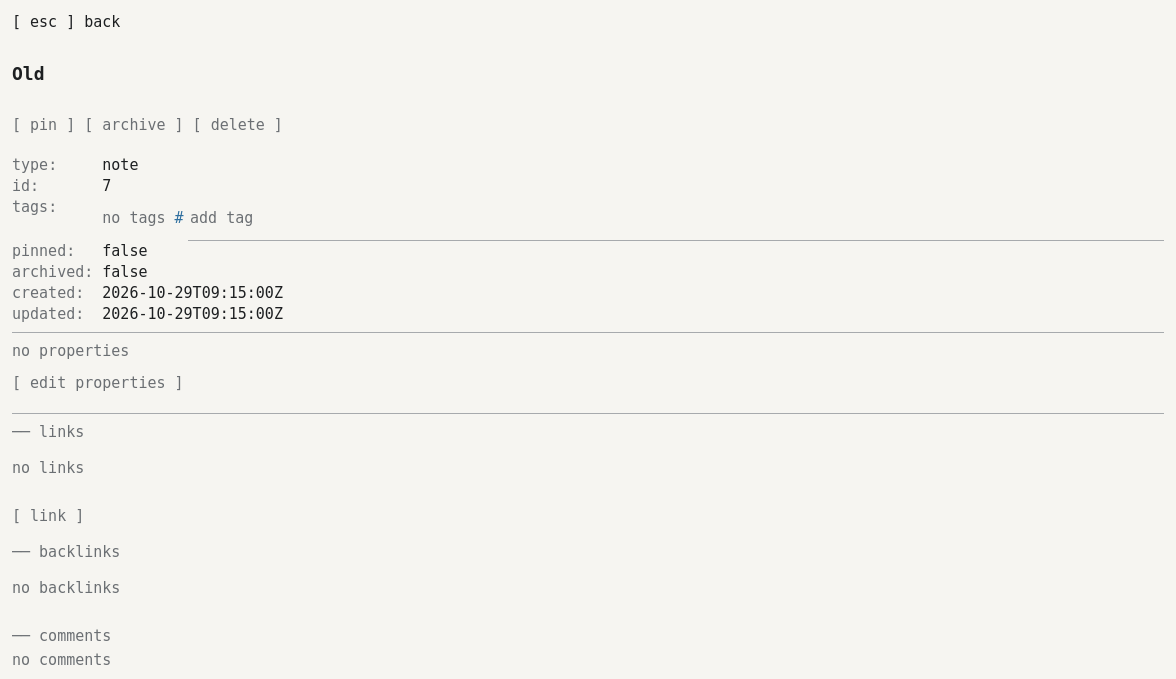
Test case: title › Esc cancels without a request and stays on the page
Click the button "Old". click: [28, 74]
box: [12, 52, 44, 96]
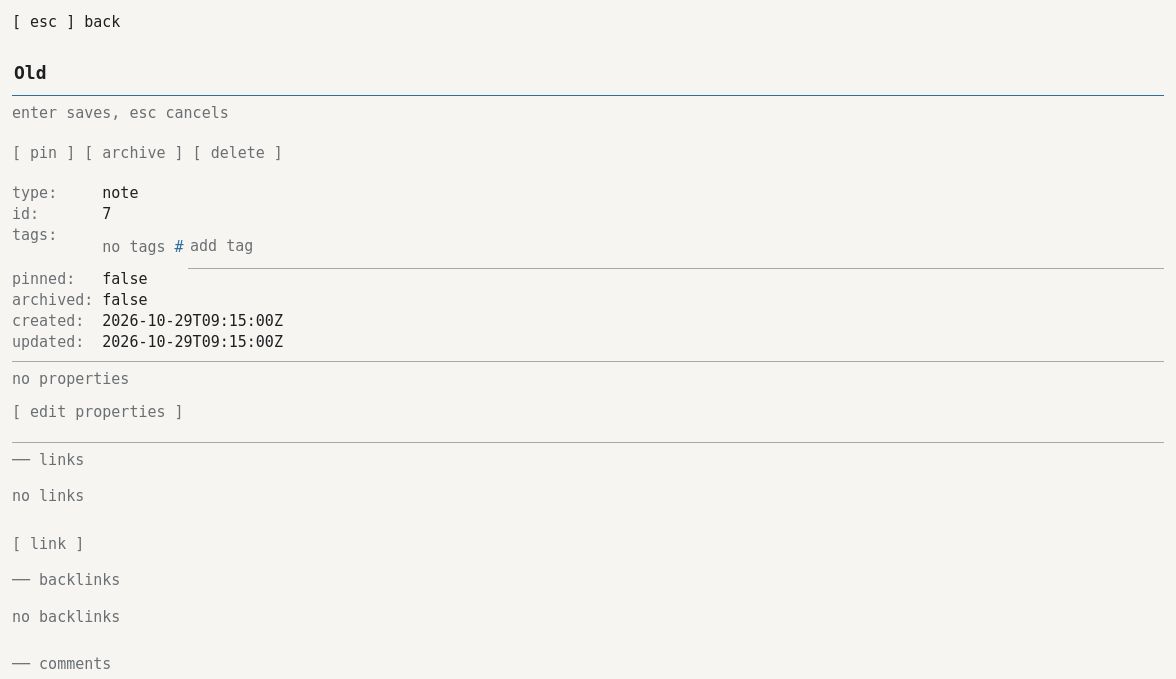
Replace the text in the field named "title" with "New". click: [588, 74]
box: [12, 52, 1164, 96]
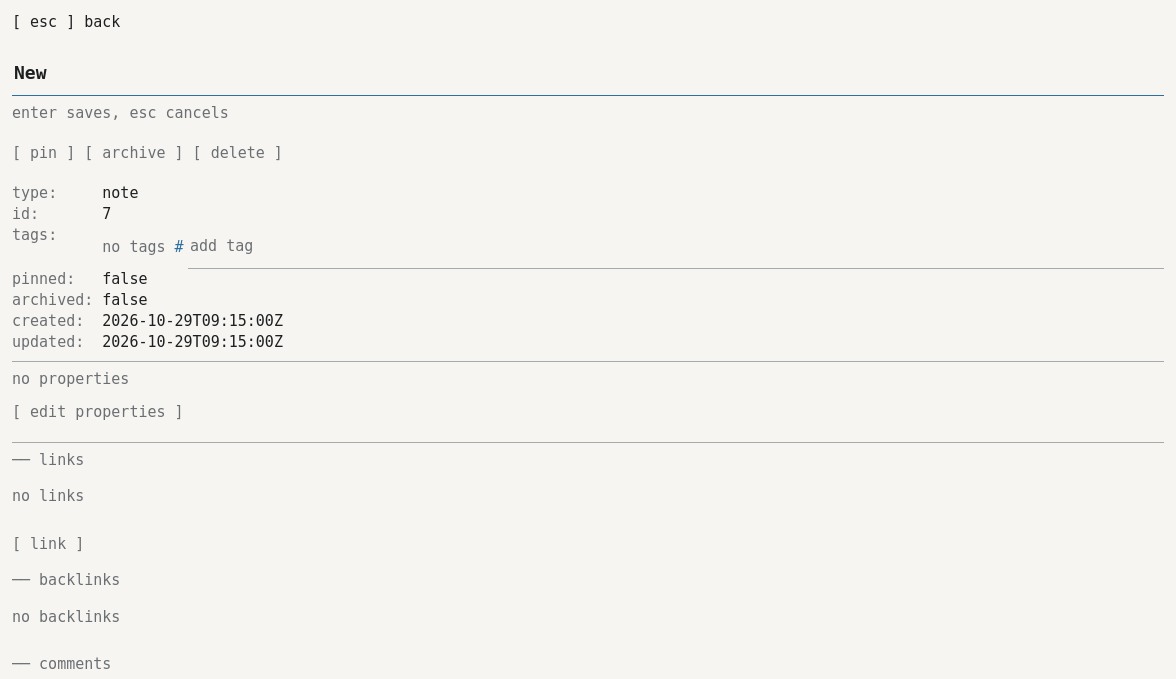
Press Escape in the field named "title", box [12, 52, 1164, 96]
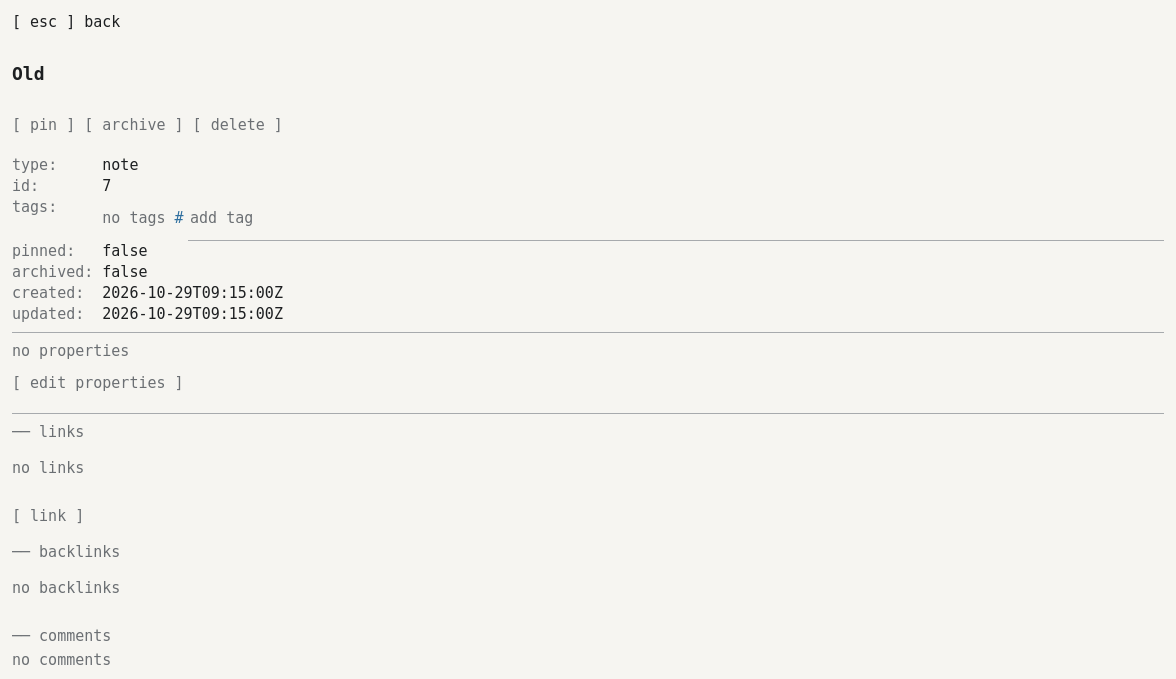
Expected: the heading "Old" is shown, [12, 52, 44, 96]
